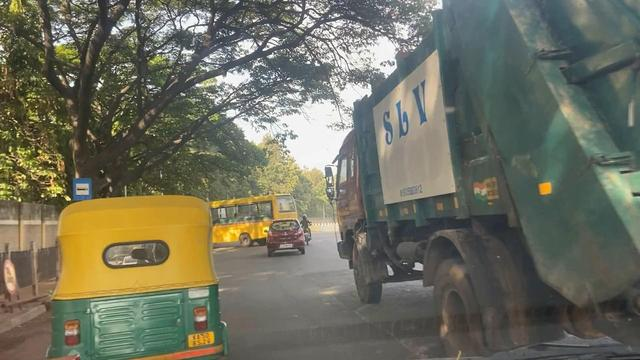LMV: (267, 219, 305, 254)
RoadDamages: (327, 297, 425, 360)
